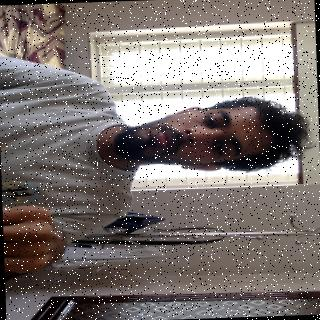Yes: (1, 202, 76, 284)
